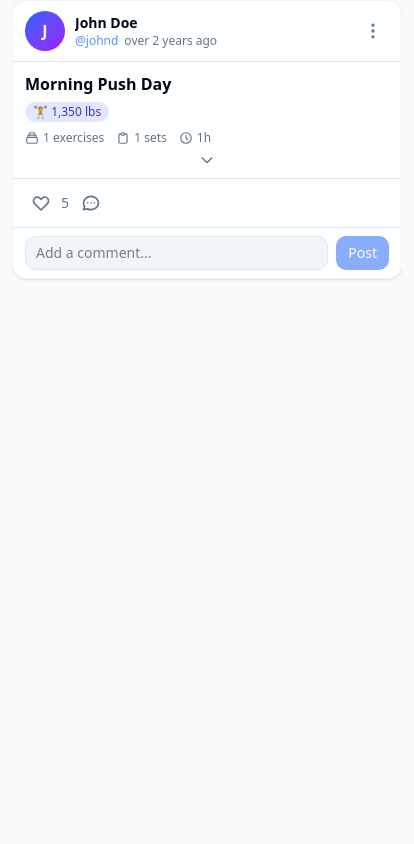
Test: FeedWorkoutCard › three-dot menu › should close menu when clicking outside
# Open the menu
Click the button named "More options". click: {"x": 373, "y": 31}
box: x1=357 y1=15 x2=389 y2=47
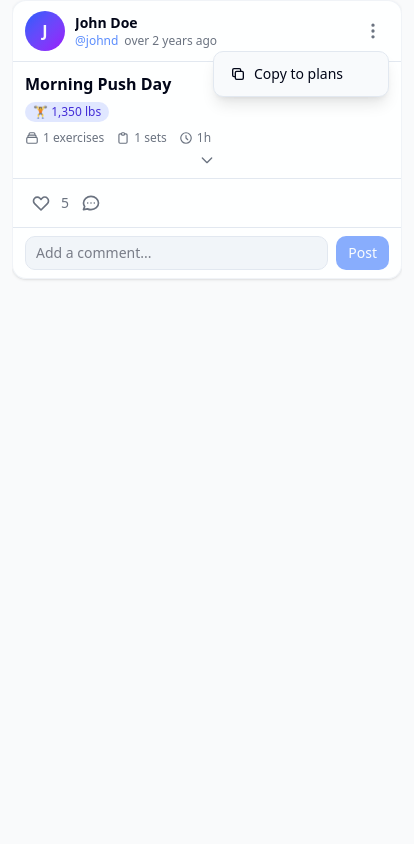
Result: the button "Copy to plans" is shown at x1=214 y1=56 x2=388 y2=92
# Click outside (on the card)
Press the mouse on the element that starts with "John Doe" at {"x": 207, "y": 422}, box x1=12 y1=0 x2=402 y2=843
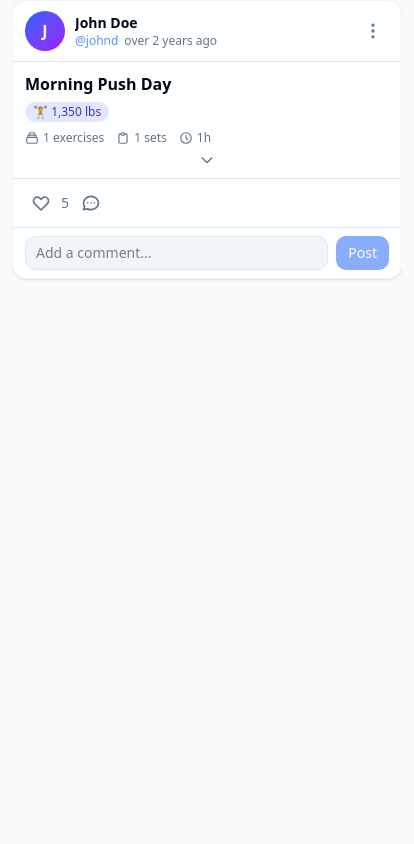
Result: the button "Copy to plans" is gone
